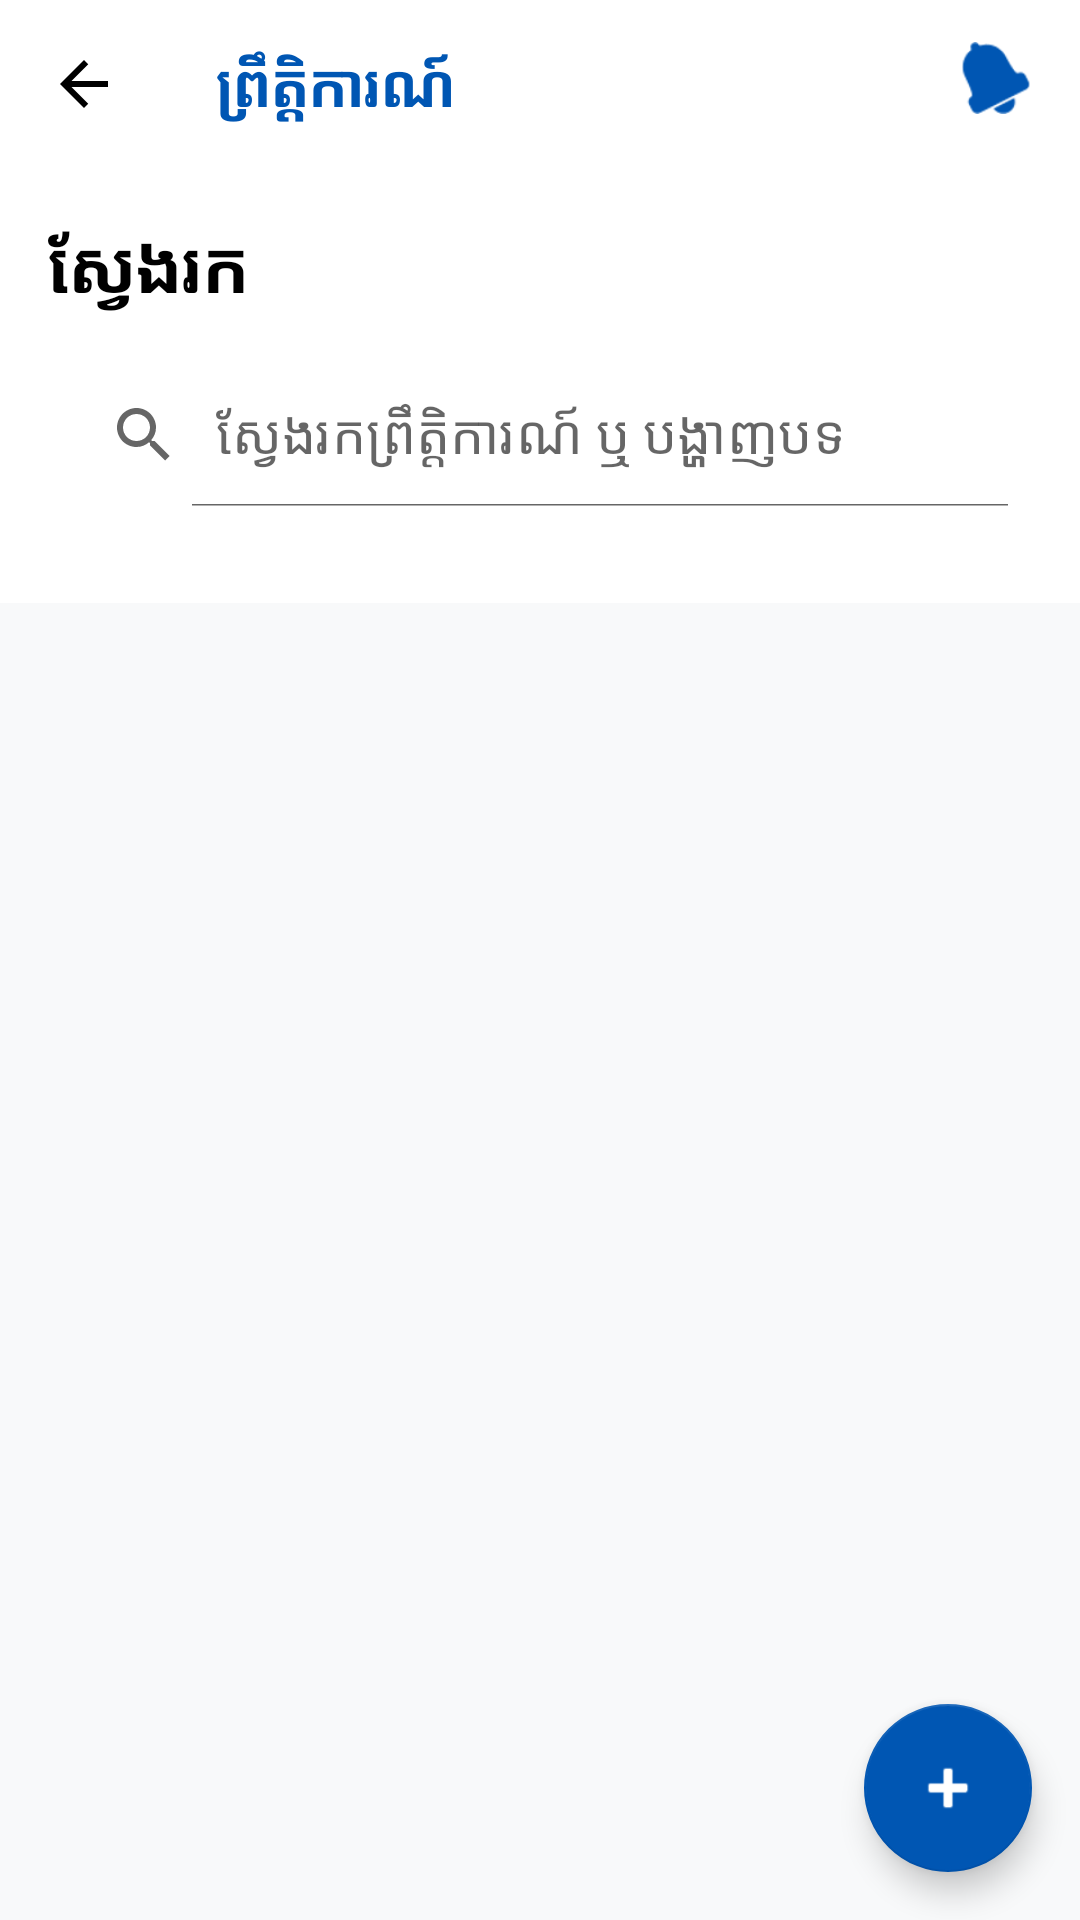

Named icons in this screenshot (1080×1920) and their bounding boxes, (x1, y1, x2, y2):
ការជូនដំណឹង: (962, 42, 1030, 114)
បង្កើតព្រឹត្តិការណ៍: (864, 1704, 1032, 1872)
